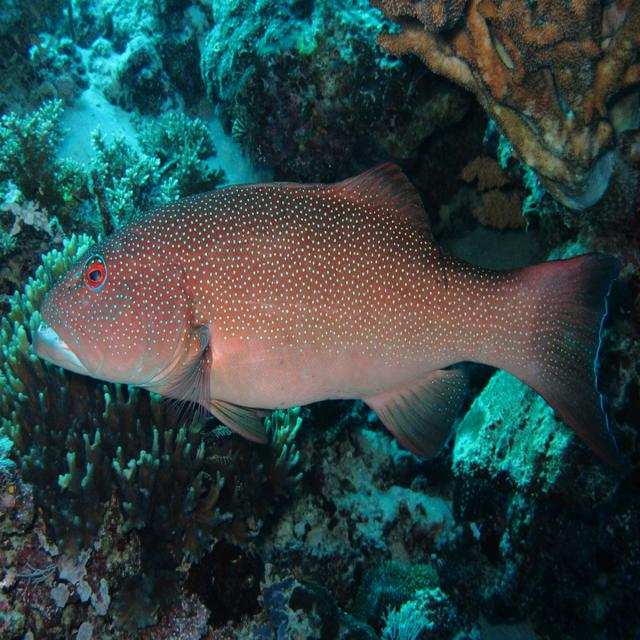Leopard coral grouper: (18, 140, 633, 488)
